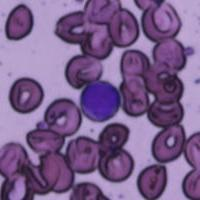L: (80, 80, 121, 123)
